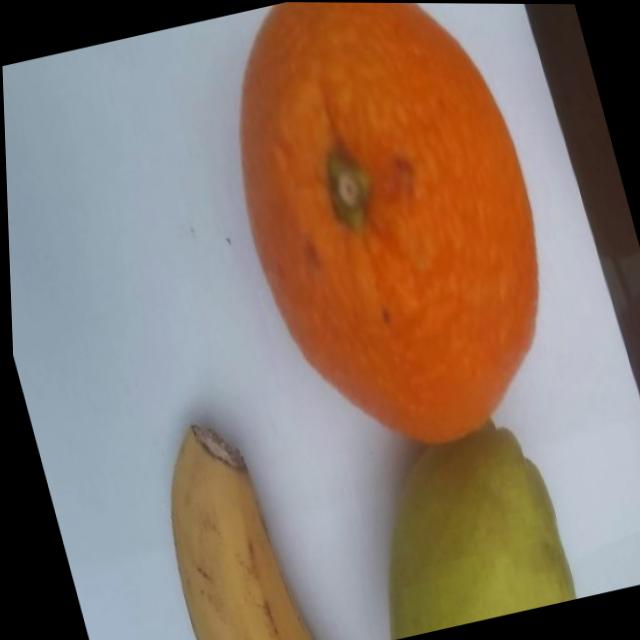Banana: (130, 398, 318, 640)
Orange: (187, 1, 586, 475)
